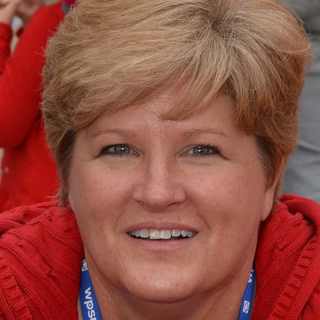eye: (177, 139, 227, 163), (93, 139, 142, 163)
